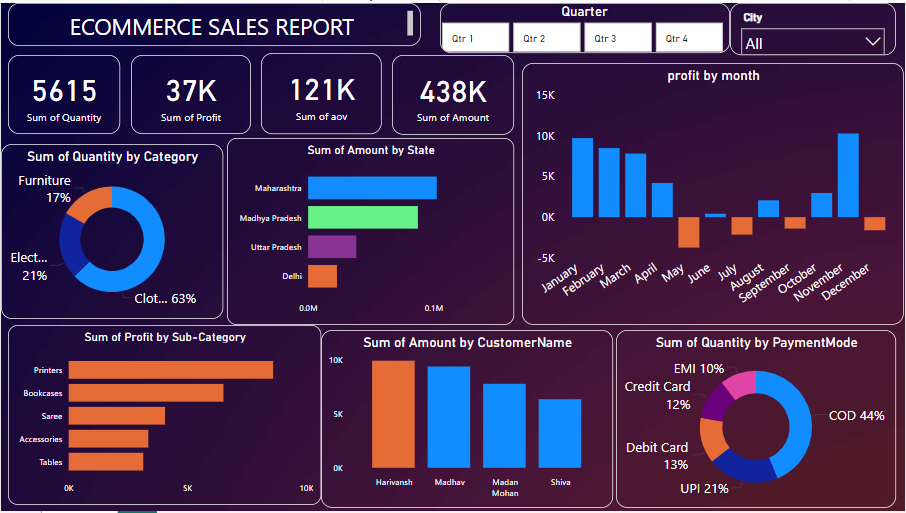

The dashboard page shown, as its layout file describes it:
{"tool":"powerbi","page":{"name":"Page 1","canvas":[1280,720],"ordinal":0},"visuals":[{"type":"columnChart","title":"profit by month","fields":{"Category":["Orders.Order Date.Variation.Date Hierarchy.Month"],"Y":["Details.Profit"]},"box":[738.4,85,541.4,371.3],"z":0},{"type":"donutChart","fields":{"Category":["Details.Category"],"Y":["Details.Quantity"]},"box":[0,199.8,314.6,248],"z":1000},{"type":"donutChart","fields":{"Y":["Details.Quantity"],"Category":["Details.PaymentMode"]},"box":[871.7,463.5,396.9,252.3],"z":2000},{"type":"card","fields":{"Values":["Details.Quantity"]},"box":[9.9,73.7,158.7,112],"z":3000},{"type":"card","fields":{"Values":["Details.Profit"]},"box":[184.3,73.7,170.1,112],"z":4000},{"type":"card","fields":{"Values":["Details.aov"]},"box":[368.5,70.9,171.5,114.8],"z":5000},{"type":"card","fields":{"Values":["Details.Amount"]},"box":[554.2,73.7,172.9,113.4],"z":6000},{"type":"barChart","fields":{"Y":["Details.Profit"],"Category":["Details.Sub-Category"]},"box":[9.9,456.4,443.6,255.1],"z":7000},{"type":"barChart","fields":{"Category":["Orders.State"],"Y":["Details.Amount"]},"box":[320.3,191.3,406.8,265],"z":8000},{"type":"columnChart","fields":{"Category":["Orders.CustomerName"],"Y":["Details.Amount"]},"box":[453.5,463.5,413.9,252.3],"z":9000},{"type":"advancedSlicerVisual","fields":{"Values":["Orders.Order Date.Variation.Date Hierarchy.Quarter"]},"box":[622.2,0,411,71.3],"z":10000},{"type":"slicer","fields":{"Values":["Orders.City"]},"box":[1033.2,0,235.3,73.7],"z":11000},{"type":"textbox","box":[9.9,0,585.4,60.9],"z":12000}]}

Visuals, with their boxes in screenshot pixels (x1, y1, x2, y2), scaled from the page's 1280x720 canvas onto the 906x513 screenshot:
"profit by month" columnChart: box(523, 61, 905, 325)
donutChart - Details.Category x Details.Quantity: box(0, 142, 223, 319)
donutChart - Details.Quantity x Details.PaymentMode: box(617, 330, 898, 510)
card - Details.Quantity: box(7, 53, 119, 132)
card - Details.Profit: box(130, 53, 251, 132)
card - Details.aov: box(261, 51, 382, 132)
card - Details.Amount: box(392, 53, 515, 133)
barChart - Details.Profit x Details.Sub-Category: box(7, 325, 321, 507)
barChart - Orders.State x Details.Amount: box(227, 136, 515, 325)
columnChart - Orders.CustomerName x Details.Amount: box(321, 330, 614, 510)
advancedSlicerVisual - Orders.Order Date.Variation.Date Hierarchy.Quarter: box(440, 0, 731, 51)
slicer - Orders.City: box(731, 0, 898, 53)
textbox: box(7, 0, 421, 43)
